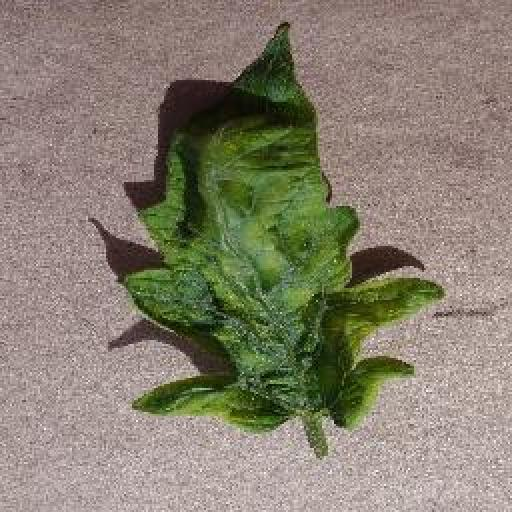disease_tomato: (115, 22, 445, 430)
